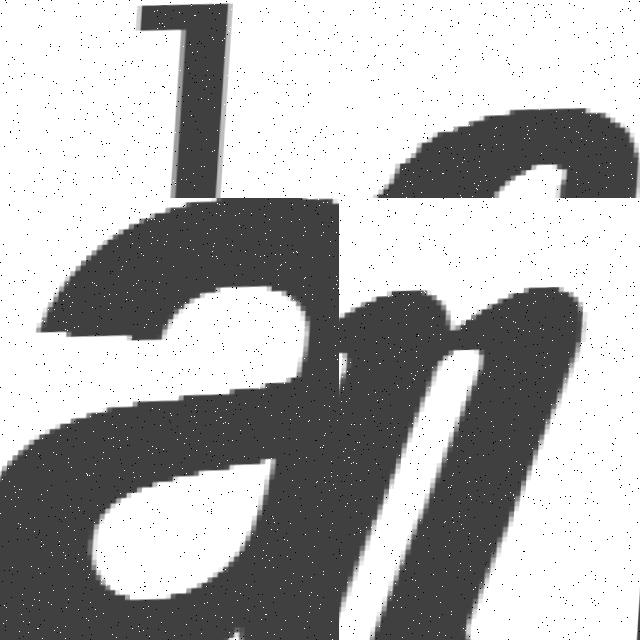A: (0, 198, 339, 640)
J: (31, 0, 248, 198)
M: (339, 258, 595, 640)
S: (339, 79, 640, 198)
